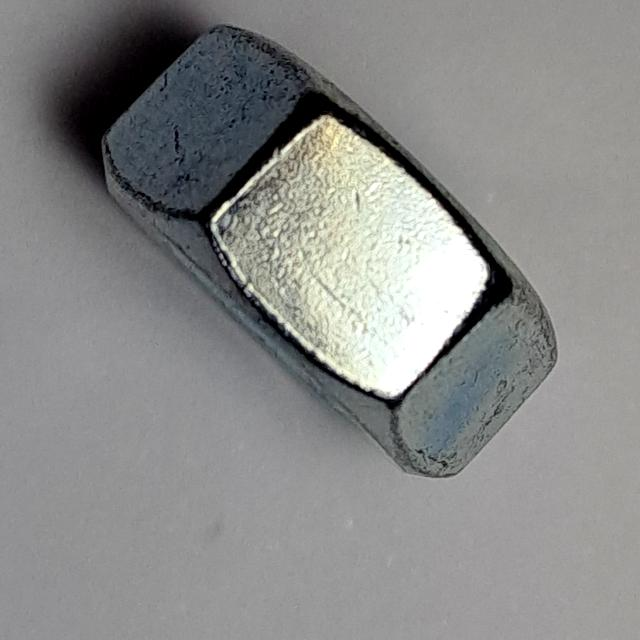Side_Excellent: (94, 10, 581, 494)
